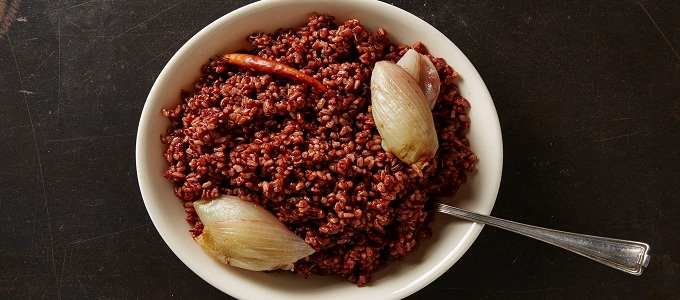Nasi Merah: (161, 34, 500, 272)
